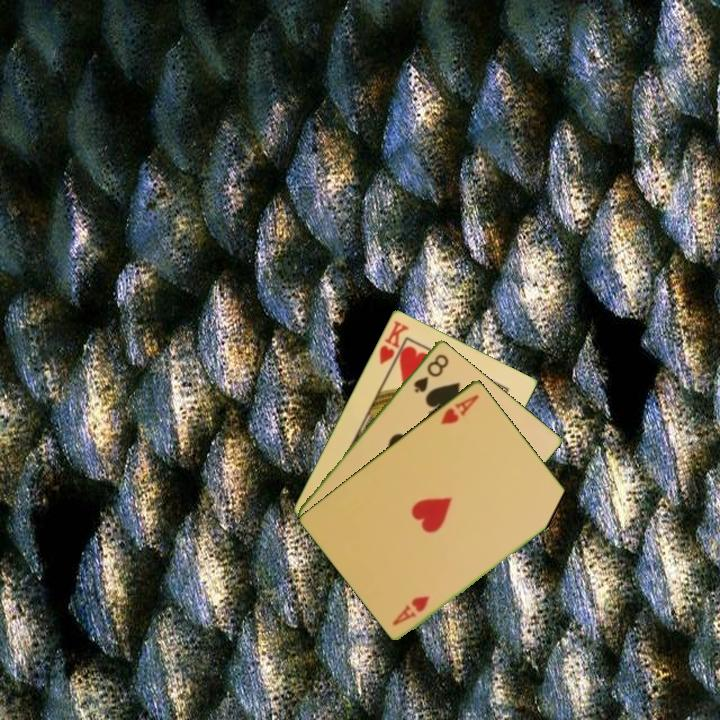8s: (410, 350, 452, 395)
Ah: (437, 390, 482, 427), (388, 592, 432, 628)
Kh: (375, 316, 412, 374)
